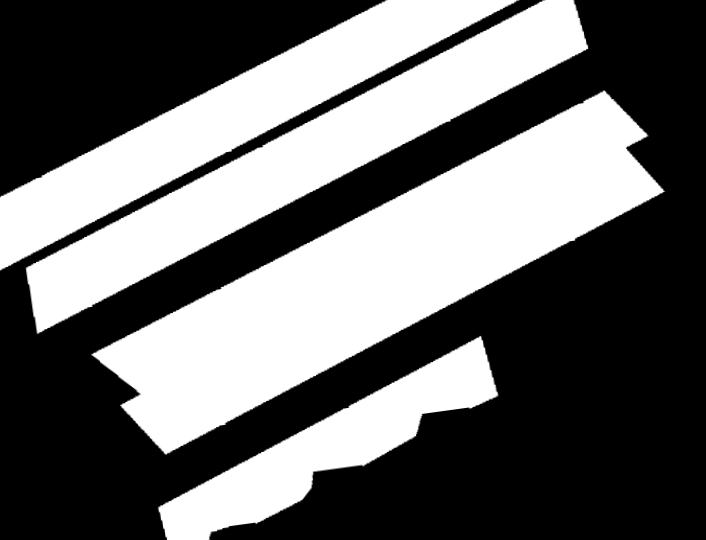parkingspot: (91, 91, 665, 454), (26, 0, 588, 334), (0, 0, 519, 270), (158, 336, 498, 540)
